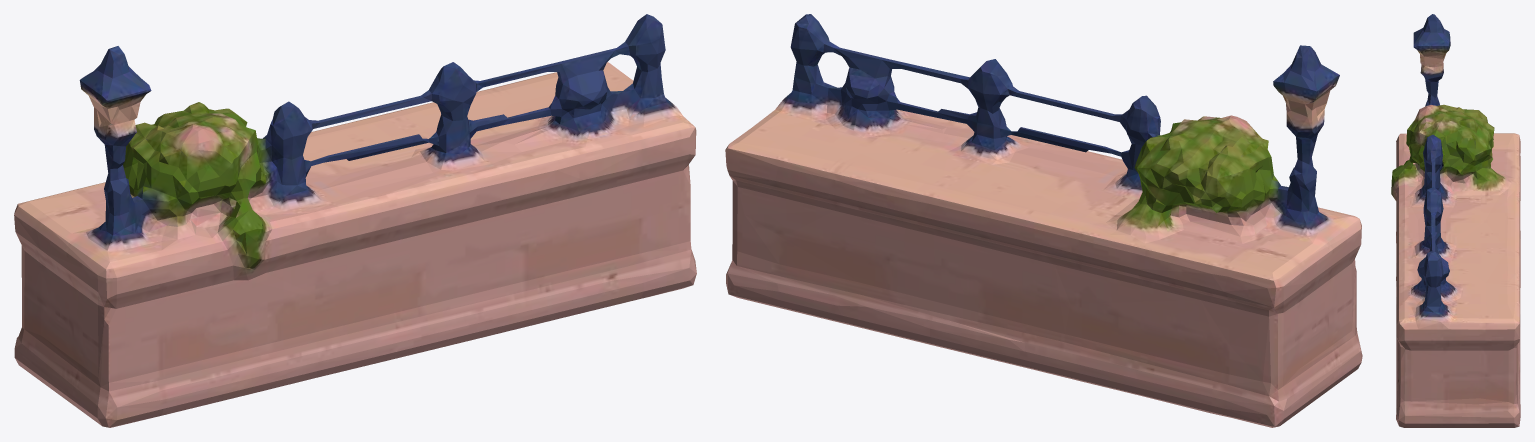
The model's file is M-13_01_embankment.glb.
3 renders of one model, left to right at view 1: azimuth 30°, elevation 25°; view 2: azimuth 150°, elevation 25°; view 3: azimuth 270°, elevation 25°, orthographic. The views are drawn at different scales.
Visible parts, largest first — view 1: loA; view 2: loA; view 3: loA.
Part boxes in pixels (x1,y1,x2,y2): loA: (14, 14, 696, 427); loA: (725, 14, 1362, 427); loA: (1391, 14, 1520, 427).
Bounding box in the file's own units: 6 × 3.44 × 1.7.
1 material, 1 textured.
